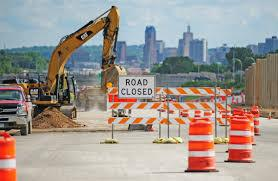car: (0, 84, 33, 136)
traffic cone: (184, 118, 220, 173), (224, 116, 256, 163), (268, 112, 272, 120)
traffic light: (112, 109, 118, 117)
